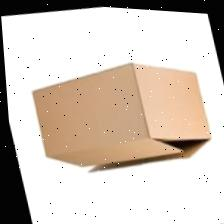cardboard: (14, 40, 220, 207)
